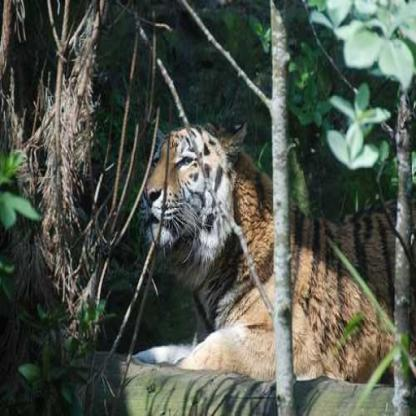Tiger: (108, 118, 415, 389)
